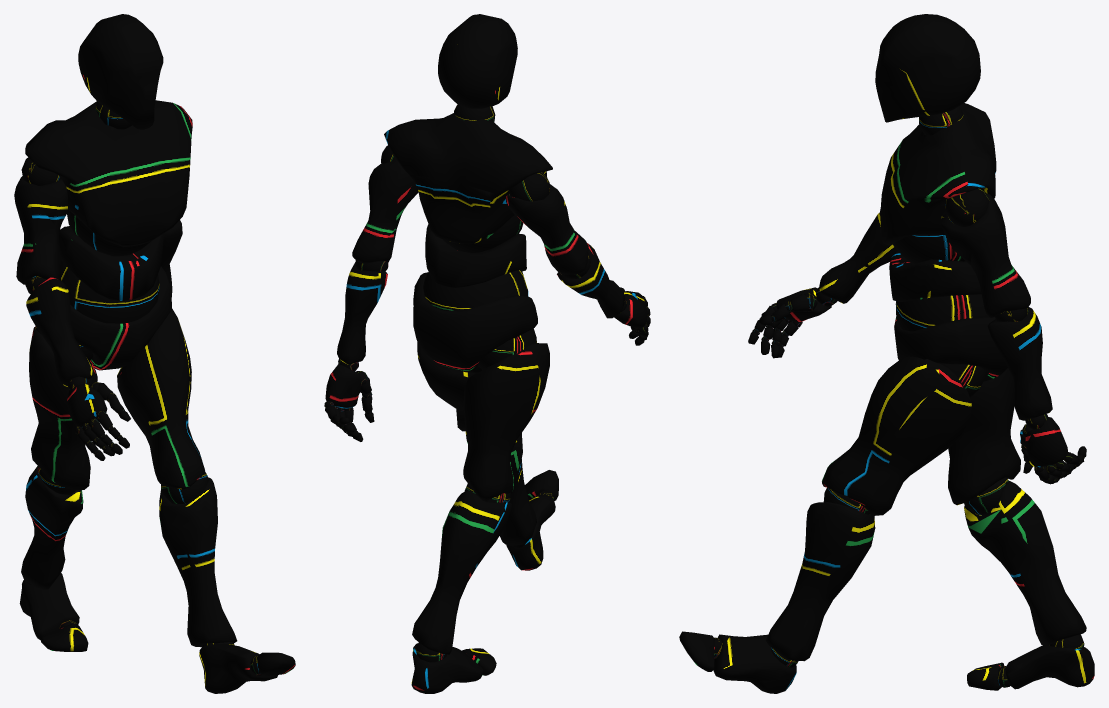
The model's file is y-bot-origin_000018.obj.
The picture shows the model from 3 angles, left to right: view 1: azimuth 30°, elevation 25°; view 2: azimuth 150°, elevation 25°; view 3: azimuth 270°, elevation 25°; orthographic projection. The views are drawn at different scales.
Parts seen in each view (by area): view 1: Alpha_Surface_Alpha_SurfaceMesh, Alpha_Joints_Alpha_JointsMesh; view 2: Alpha_Surface_Alpha_SurfaceMesh, Alpha_Joints_Alpha_JointsMesh; view 3: Alpha_Surface_Alpha_SurfaceMesh, Alpha_Joints_Alpha_JointsMesh.
Part boxes in pixels (x1=…): Alpha_Surface_Alpha_SurfaceMesh: x1=14, y1=14, x2=295, y2=693; Alpha_Joints_Alpha_JointsMesh: x1=21, y1=101, x2=261, y2=675; Alpha_Surface_Alpha_SurfaceMesh: x1=325, y1=14, x2=650, y2=693; Alpha_Joints_Alpha_JointsMesh: x1=324, y1=104, x2=649, y2=662; Alpha_Surface_Alpha_SurfaceMesh: x1=679, y1=14, x2=1094, y2=693; Alpha_Joints_Alpha_JointsMesh: x1=714, y1=106, x2=1084, y2=687.
Bounding box in the file's own units: 0.5927 × 1.76 × 0.9735.
